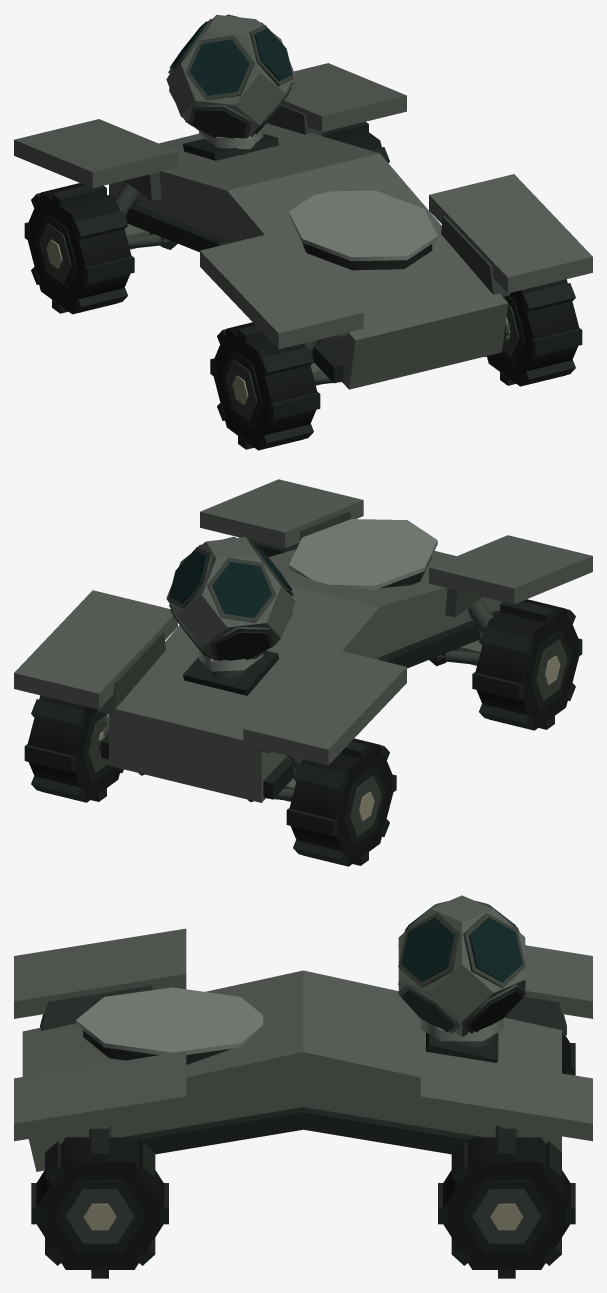
Rendered from xb12_d0_lod2.meshopt.glb.
3 views of the same model, one above another, from view 1: azimuth 30°, elevation 25°; view 2: azimuth 150°, elevation 25°; view 3: azimuth 270°, elevation 25° (orthographic). The views are drawn at different scales.
Parts seen in each view (by area): view 1: XB12_STATIC; view 2: XB12_STATIC; view 3: XB12_STATIC.
Part boxes in pixels (x1=…): XB12_STATIC: x1=14, y1=14, x2=592, y2=450; XB12_STATIC: x1=14, y1=479, x2=592, y2=866; XB12_STATIC: x1=14, y1=895, x2=592, y2=1278.
Bounding box in the file's own units: 2.88 × 2.3 × 4.2.
